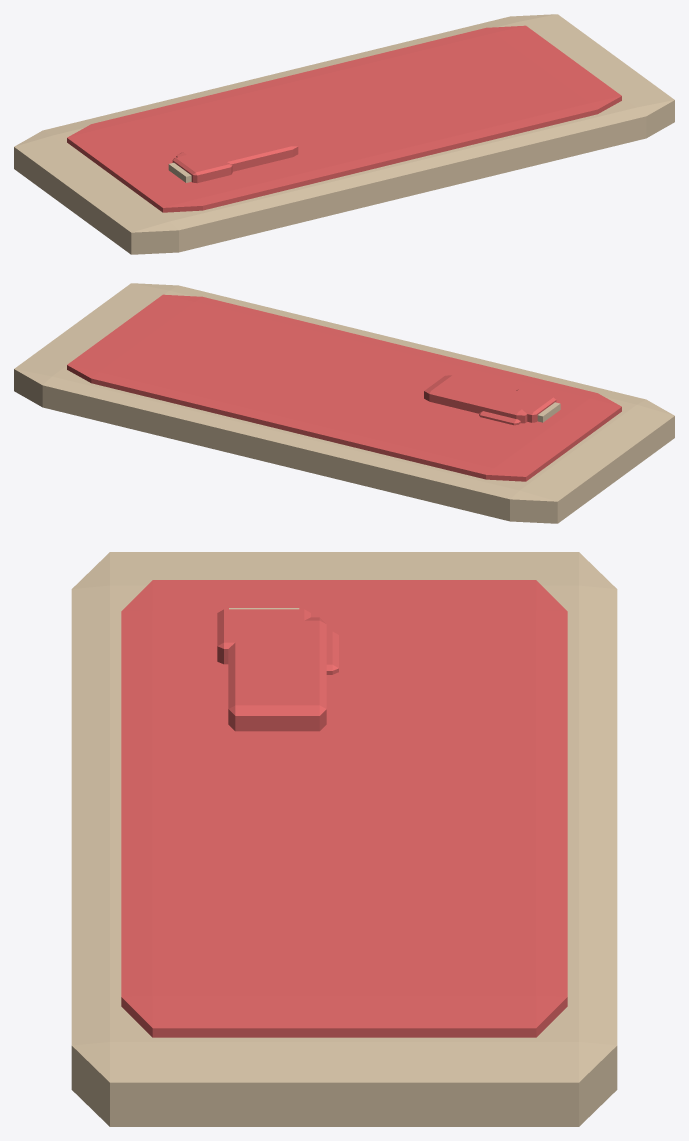
Rendered from b16_torn_sugar_packet.glb.
The picture shows the model from 3 angles, top to bottom: view 1: azimuth 30°, elevation 25°; view 2: azimuth 150°, elevation 25°; view 3: azimuth 270°, elevation 25°; orthographic projection. The views are drawn at different scales.
Parts seen in each view (by area): view 1: b16_torn_sugar_packet; view 2: b16_torn_sugar_packet; view 3: b16_torn_sugar_packet.
Part boxes in pixels (<box>): b16_torn_sugar_packet: <box>14,14,674,254</box>; b16_torn_sugar_packet: <box>14,283,674,523</box>; b16_torn_sugar_packet: <box>71,552,617,1126</box>.
Size of the model in its own units: 0.122 by 0.01 by 0.053.
